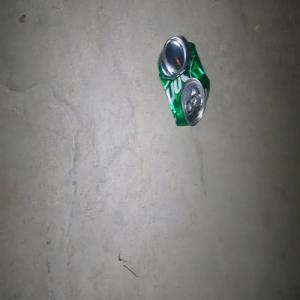SodaCan: (157, 35, 209, 126)
